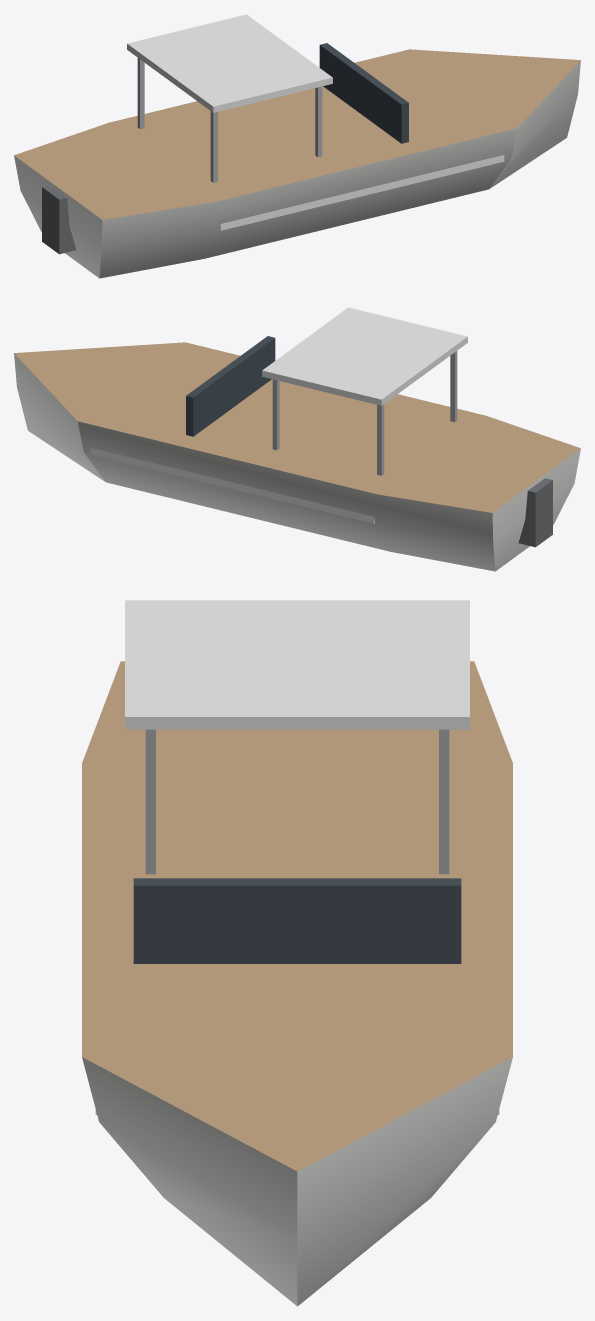
Rendered from motorboat.glb.
3 views of the same model, one above another, from view 1: azimuth 30°, elevation 25°; view 2: azimuth 150°, elevation 25°; view 3: azimuth 270°, elevation 25° (orthographic). The views are drawn at different scales.
Visible parts, largest first — view 1: motorboat; view 2: motorboat; view 3: motorboat.
Boxes of the visible parts, left/top/right/bottom form: motorboat: left=14, top=14, right=580, bottom=278; motorboat: left=14, top=307, right=580, bottom=571; motorboat: left=82, top=600, right=512, bottom=1306.
Size of the model in its own units: 7.1 by 2.04 by 2.5.
